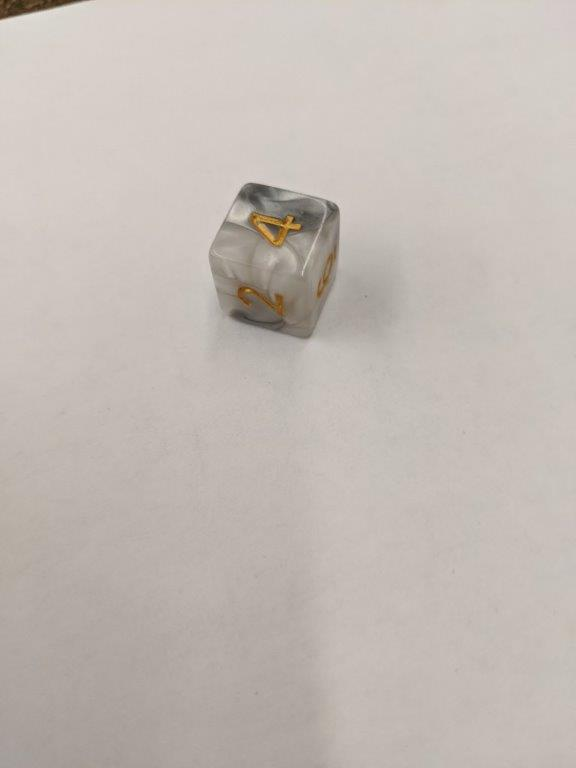d6-4: (208, 181, 340, 349)
